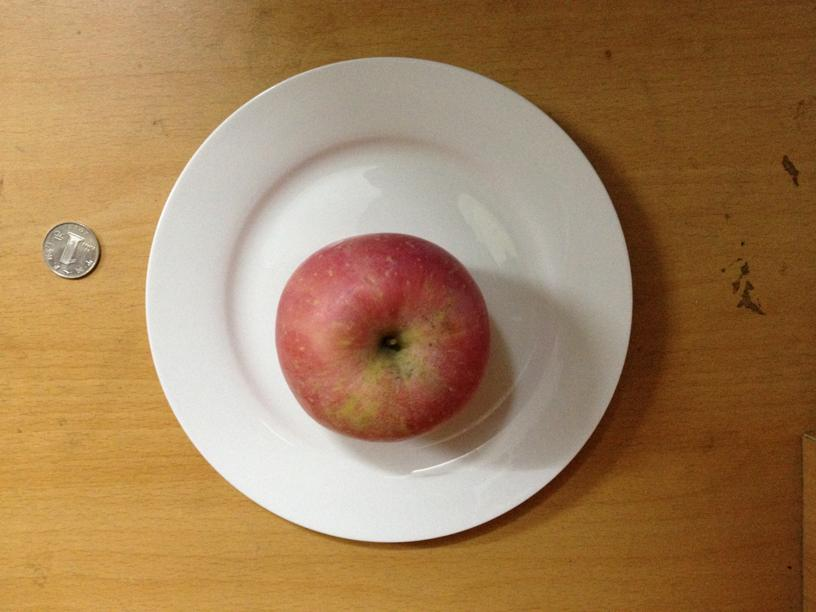apple: (276, 234, 487, 441)
coin: (40, 220, 98, 280)
